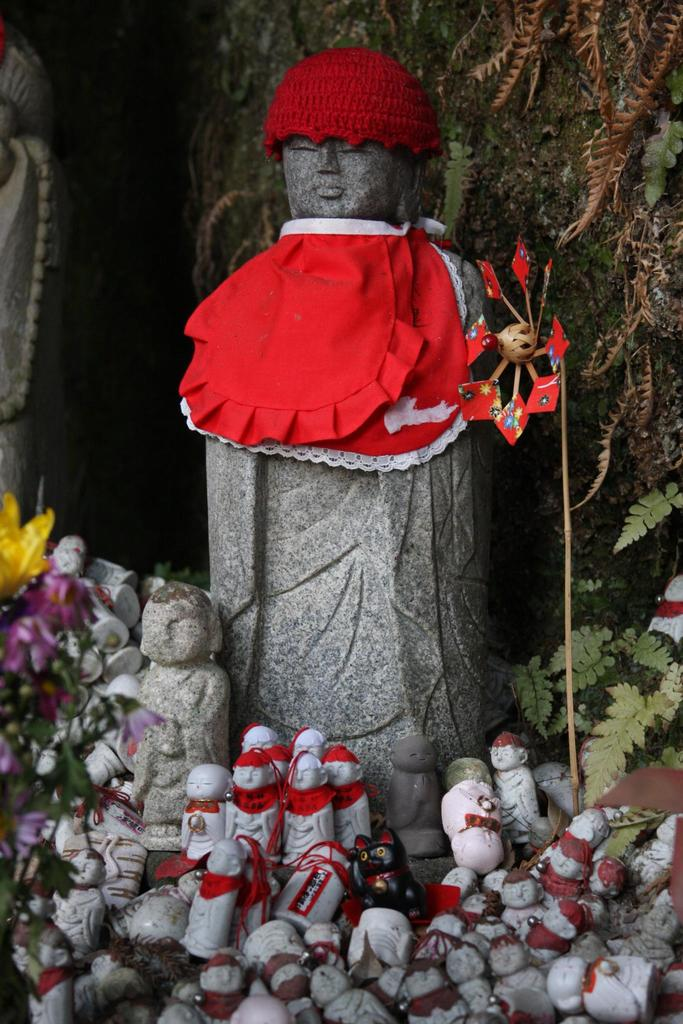Tree: (170, 0, 683, 814)
